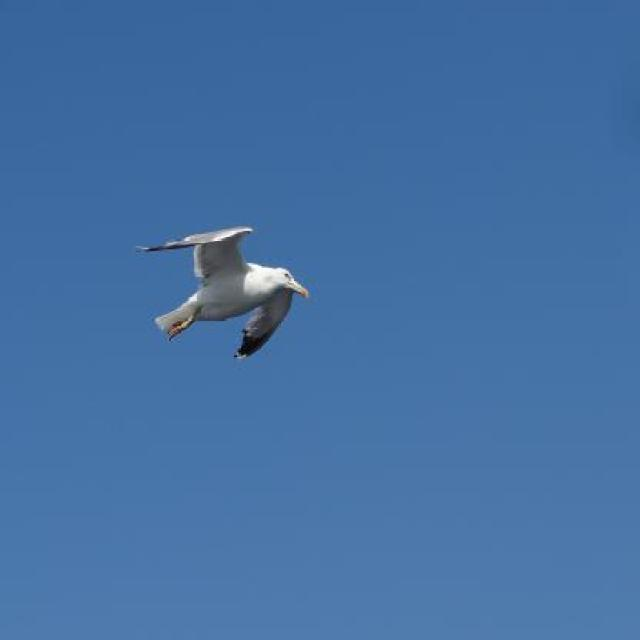bird: (136, 226, 310, 360)
